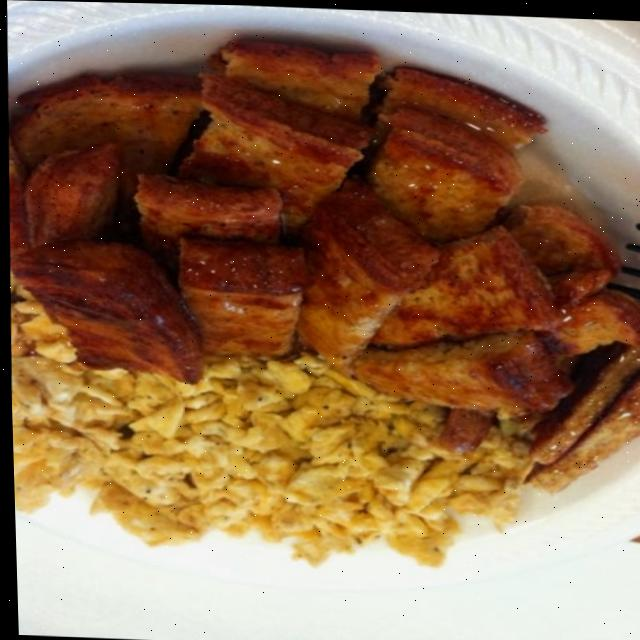面包点心: (0, 11, 640, 586)
